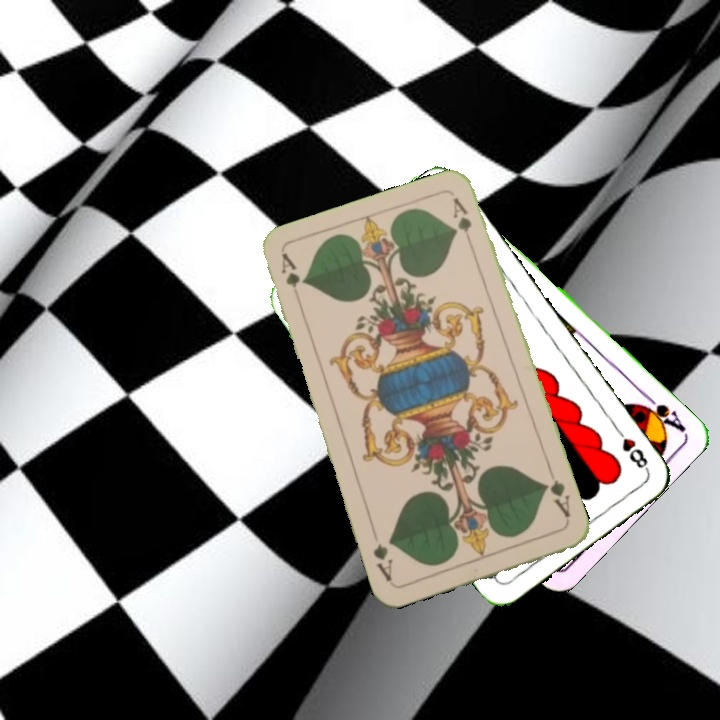GA: (540, 466, 573, 524), (276, 250, 303, 290)
H8: (611, 423, 652, 474)
SA: (633, 389, 688, 435)
